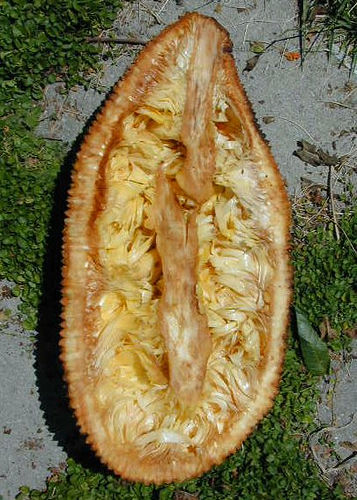jackfruit: (62, 10, 299, 492)
